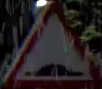Speed Breaker ahead: (3, 3, 96, 88)
